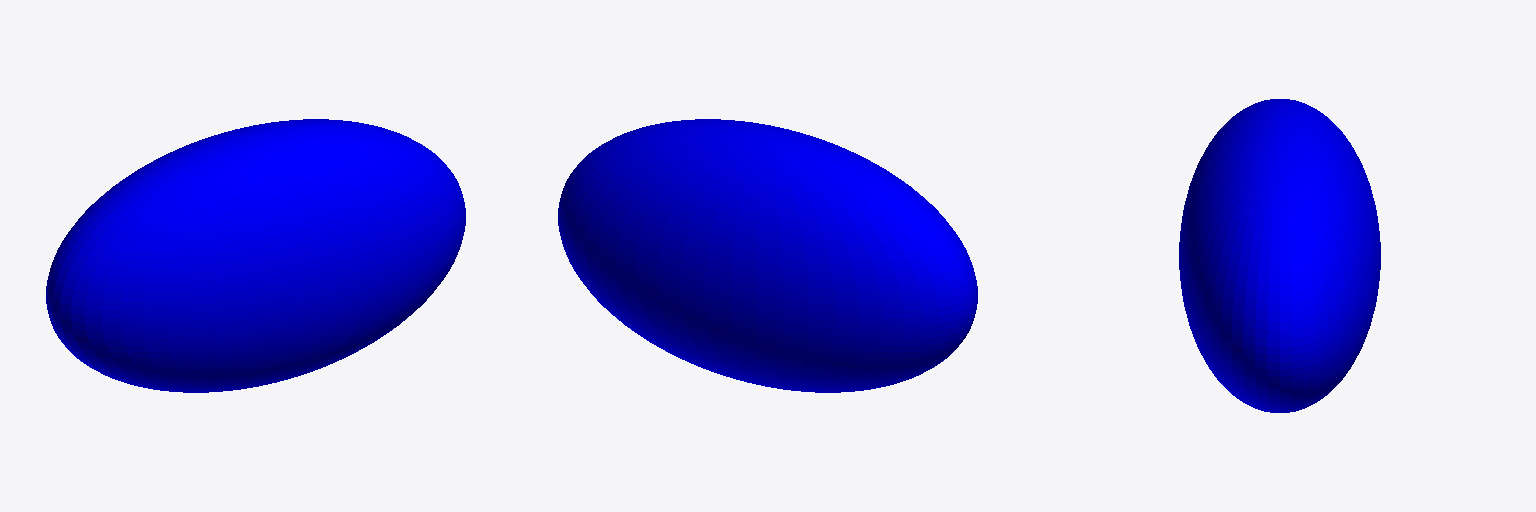
The model's file is ellipsoid.obj.
3 views of the same model, side by side, from view 1: azimuth 30°, elevation 25°; view 2: azimuth 150°, elevation 25°; view 3: azimuth 270°, elevation 25° (orthographic).
Visible parts, largest first — view 1: Ellipsoid; view 2: Ellipsoid; view 3: Ellipsoid.
Boxes of the visible parts, x1,y1,x2,y2 form: Ellipsoid: [46, 119, 465, 392]; Ellipsoid: [558, 119, 977, 392]; Ellipsoid: [1179, 99, 1380, 412].
Size of the model in its own units: 1.4 by 0.8 by 0.5988.